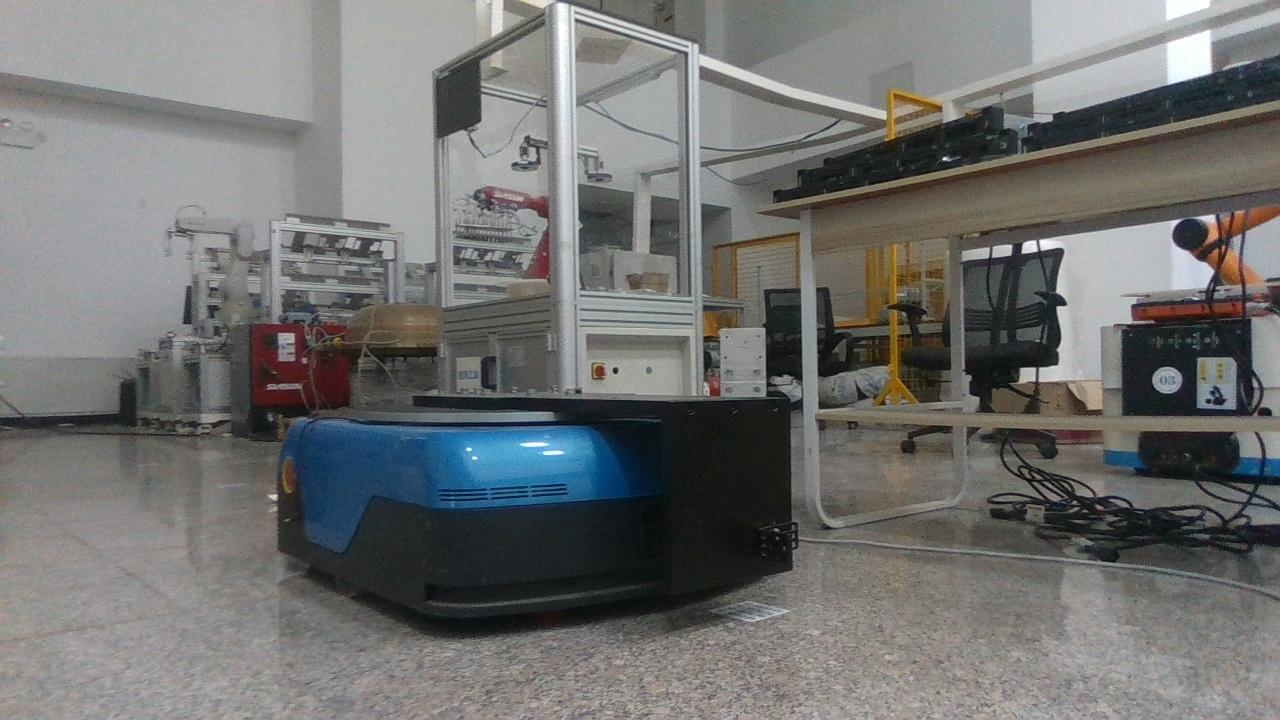AGV: (278, 392, 798, 616)
